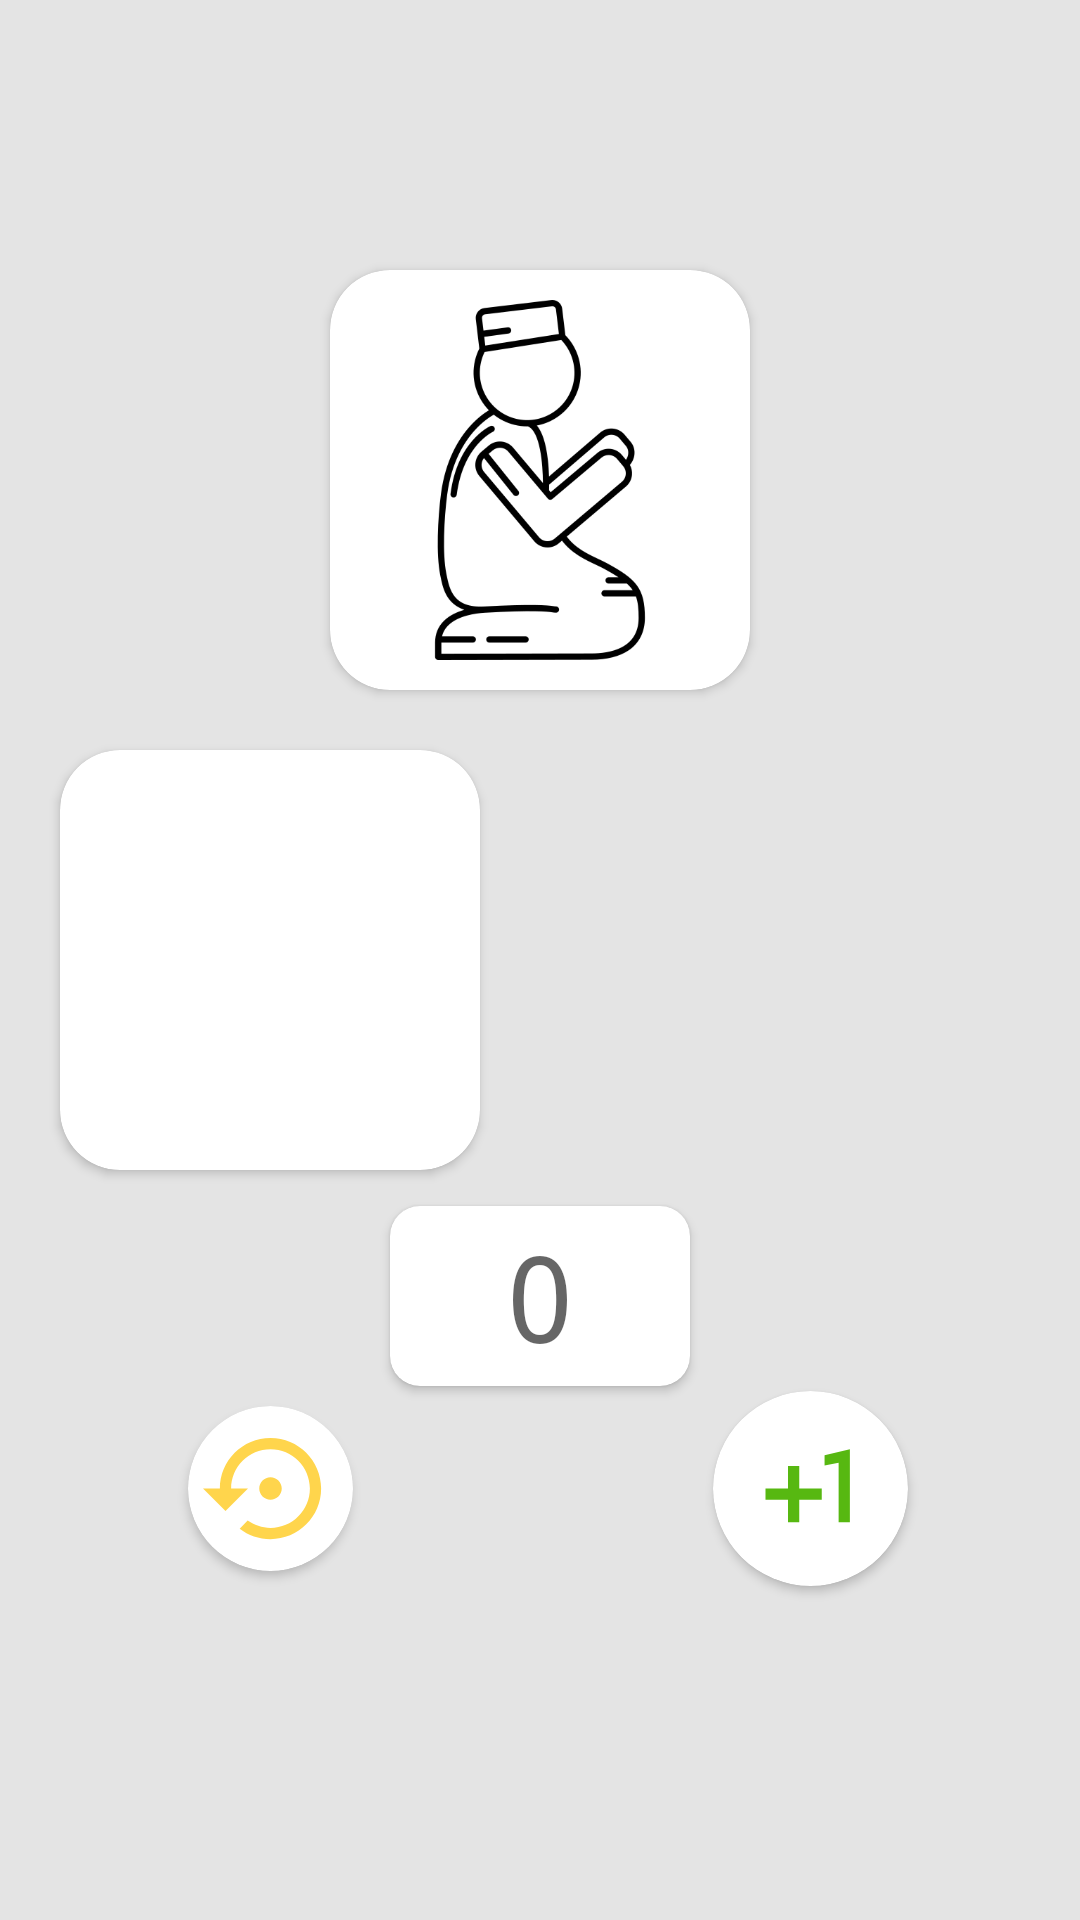

Point at icon controls on the screen. Image size 1080*1920, points as (x,y).
plus one: (807,1486)
praying: (540,480)
settings backup restore: (270,1488)
